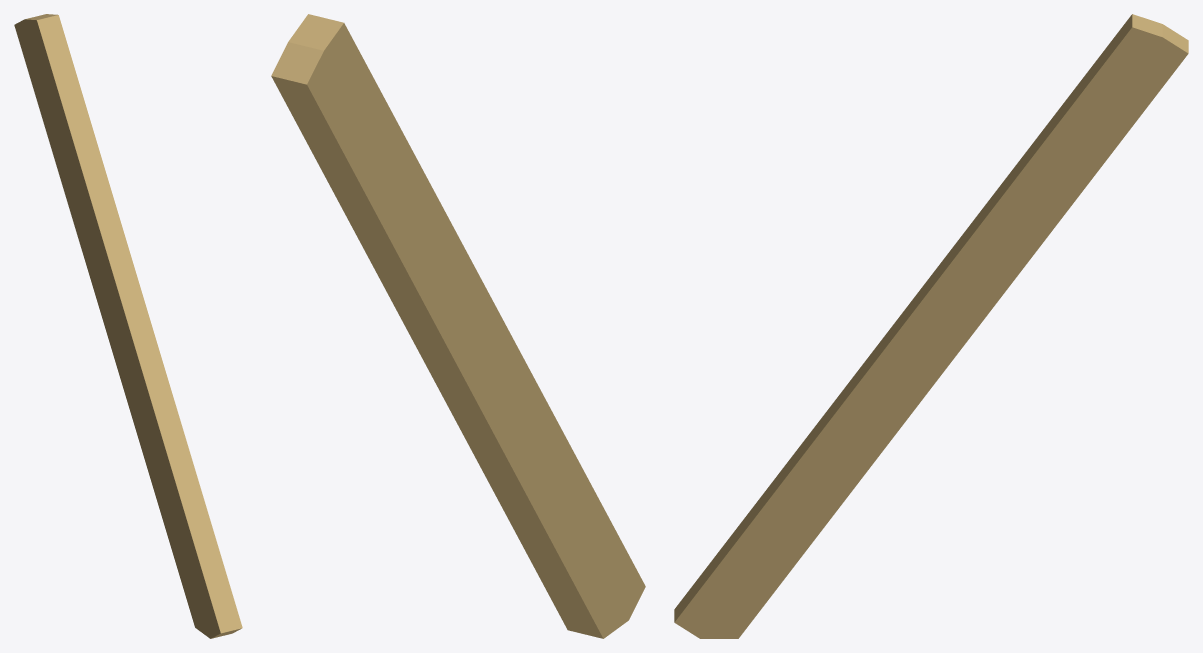
3 views of the same model, side by side, from view 1: azimuth 30°, elevation 25°; view 2: azimuth 150°, elevation 25°; view 3: azimuth 270°, elevation 25° (orthographic). The views are drawn at different scales.
Parts seen in each view (by area): view 1: L1-3-S14-32A-WEB03; view 2: L1-3-S14-32A-WEB03; view 3: L1-3-S14-32A-WEB03.
Part boxes in pixels (x1,y1,x2,y2): L1-3-S14-32A-WEB03: (14, 14, 242, 638); L1-3-S14-32A-WEB03: (271, 14, 645, 638); L1-3-S14-32A-WEB03: (674, 14, 1188, 638).
Size of the model in its own units: 0.045 by 0.966 by 0.7359.
